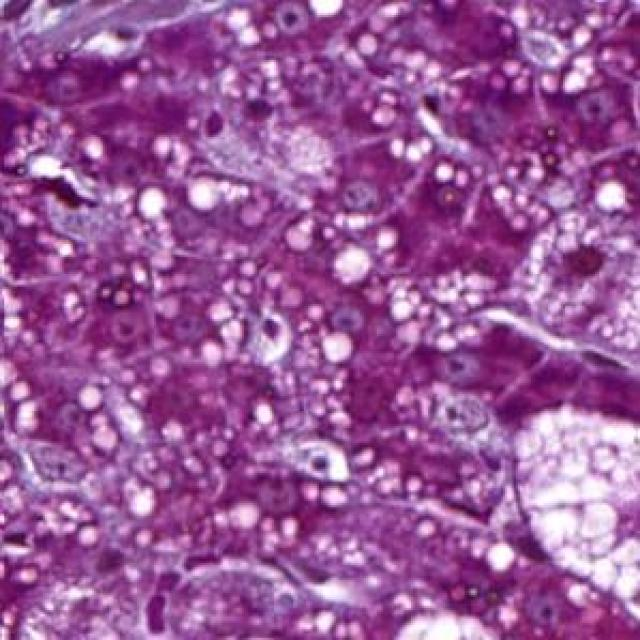ballooning: (498, 404, 640, 633)
